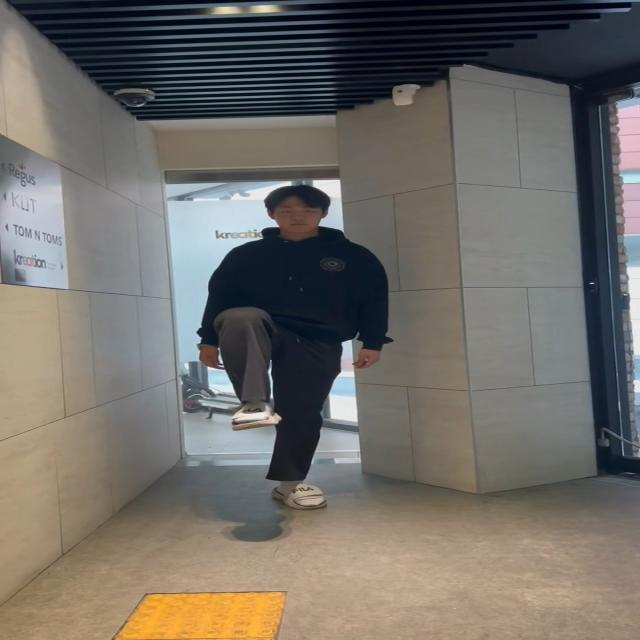knee: (194, 303, 307, 439)
